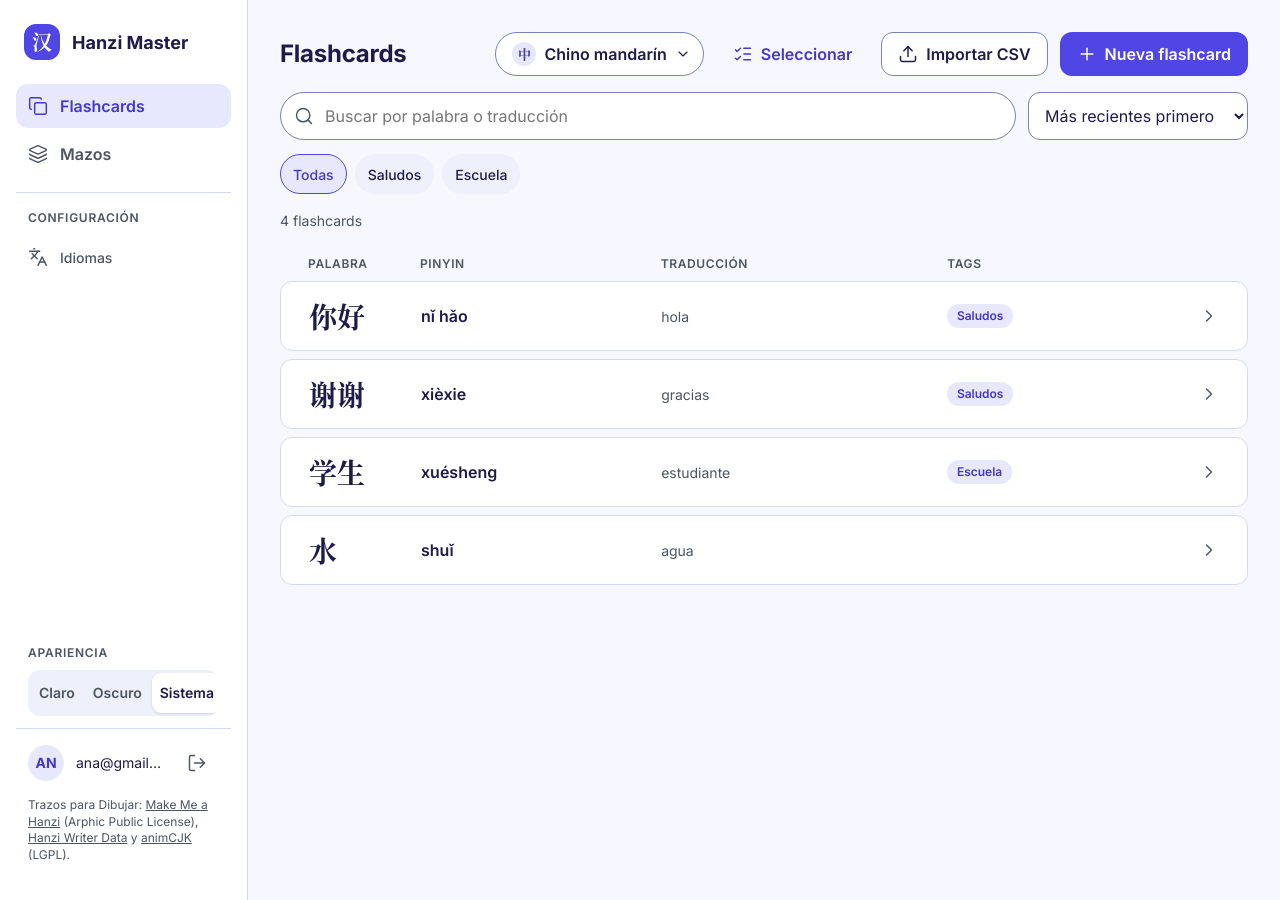
Test: F01 · Listado de flashcards › F01-2 la búsqueda filtra en vivo por palabra o traducción, sin distinguir mayúsculas ni acentos
The width and height of the screenshot is (1280, 900).
Expected: the heading "Flashcards" is shown, [280, 39, 407, 68]
Type "ESTUDIÁ" into the search field named "Buscar flashcards" at (648, 116), box [280, 92, 1016, 140]
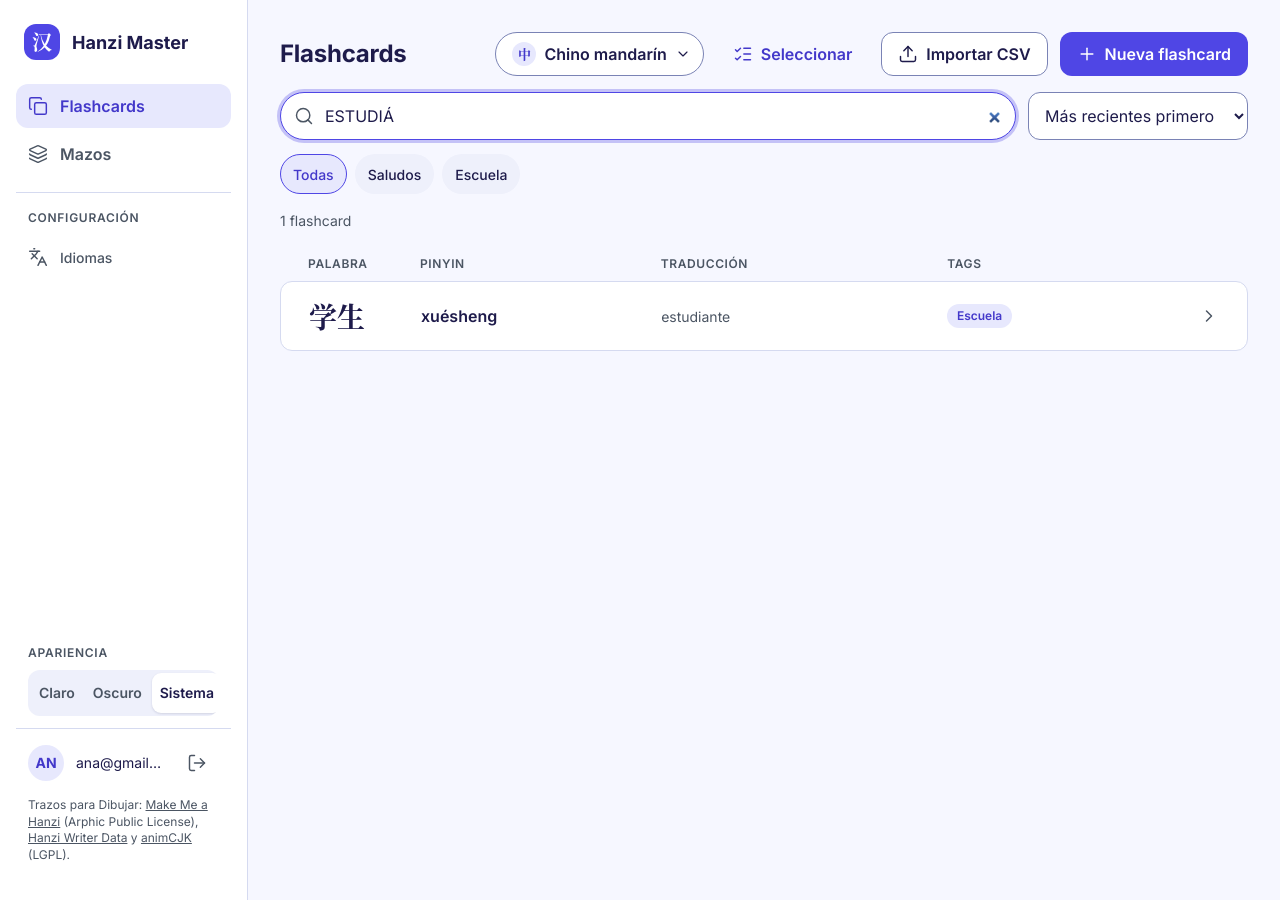
Now the text "1 flashcard" is shown, box [280, 212, 351, 229]
Replace the text in the search field named "Buscar flashcards" with "谢" at (648, 116), box [280, 92, 1016, 140]
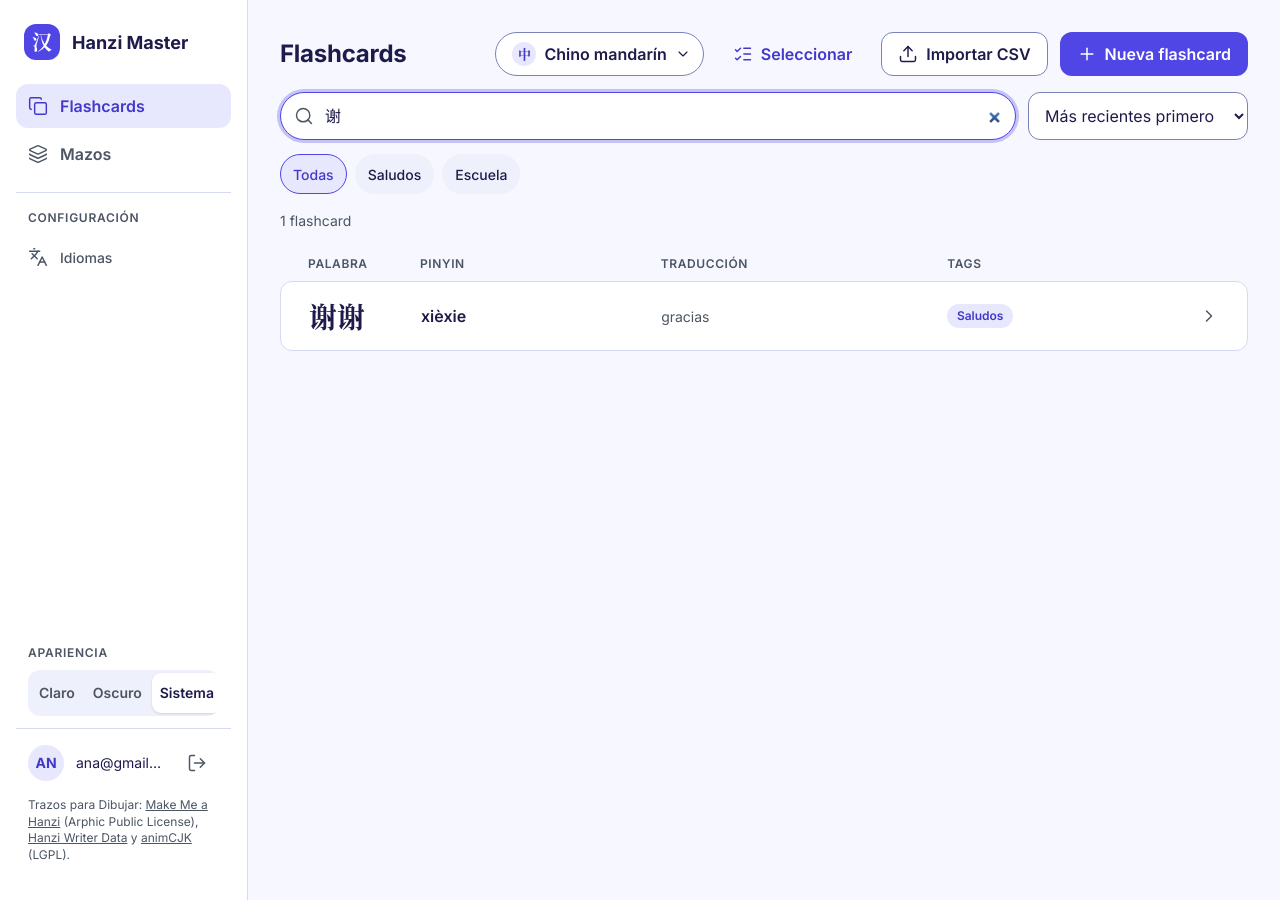
Now the text "1 flashcard" is shown, box [280, 212, 351, 229]
Now the link "谢谢 Saludos" is shown, box [280, 281, 1248, 351]
